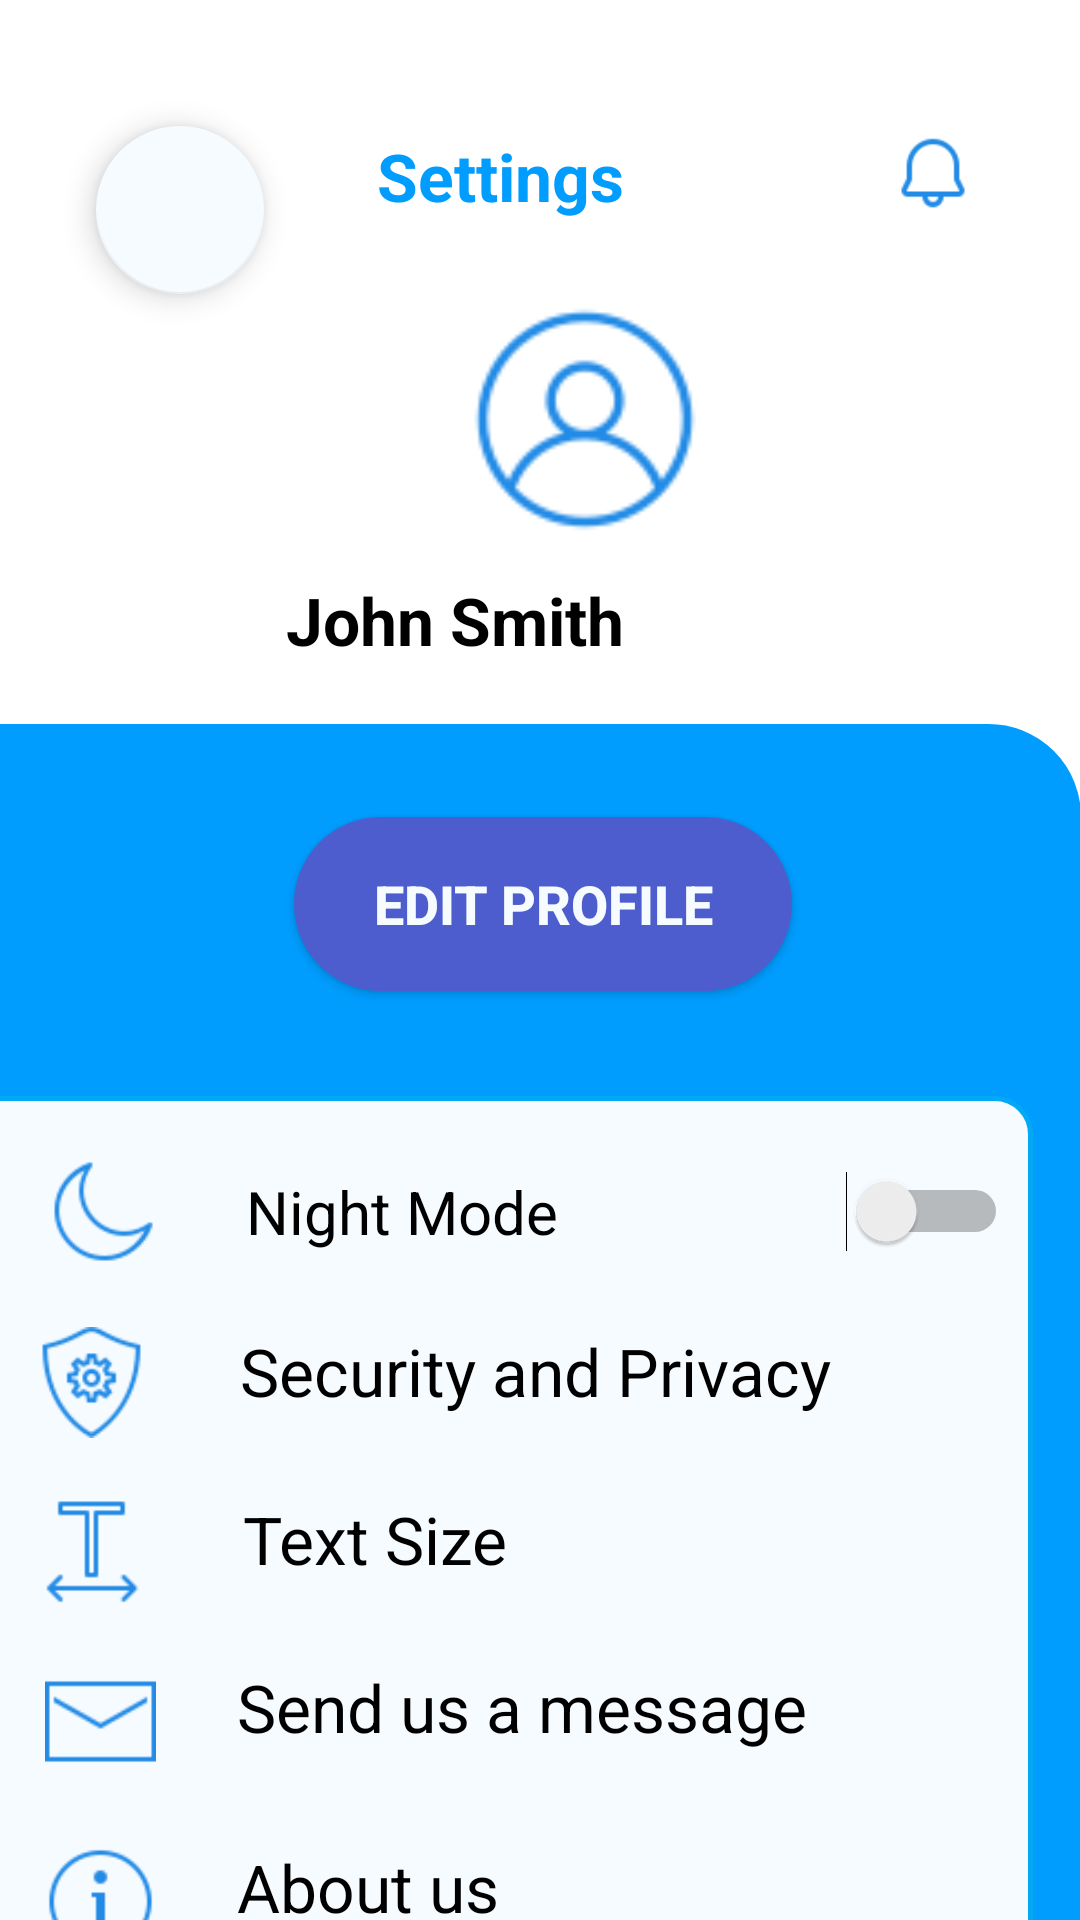

Locate icon controls on the screen. Image size 1080 x 1920, boxes as (x1, y1, x2, y2).
contact us: (45, 1681, 156, 1762)
notfy: (901, 138, 965, 208)
profile seetings: (475, 310, 695, 529)
